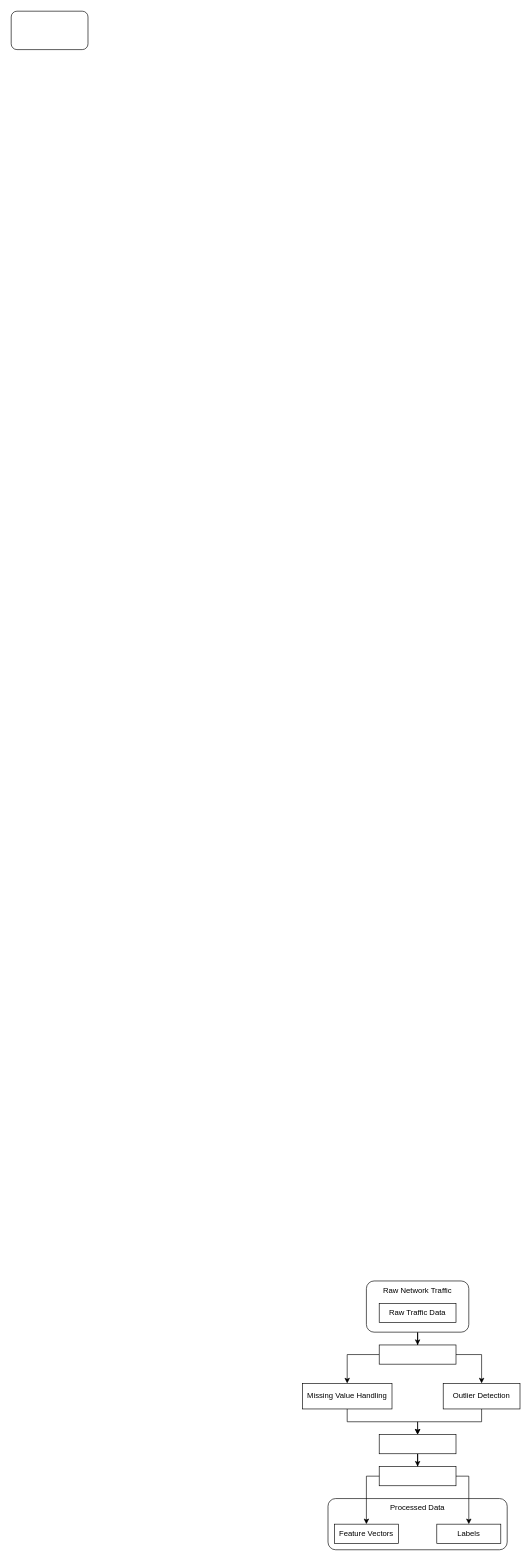
The diagram is 531 pixels wide and 1561 high, and some of its shapes have lost their labels. Here are the shapes that lost their labels. From the top down, the centre of each, then its label:
At [417,1354]: "Feature Extraction".
At [417,1444]: "Normalization".
At [417,1476]: "Feature Scaling".
